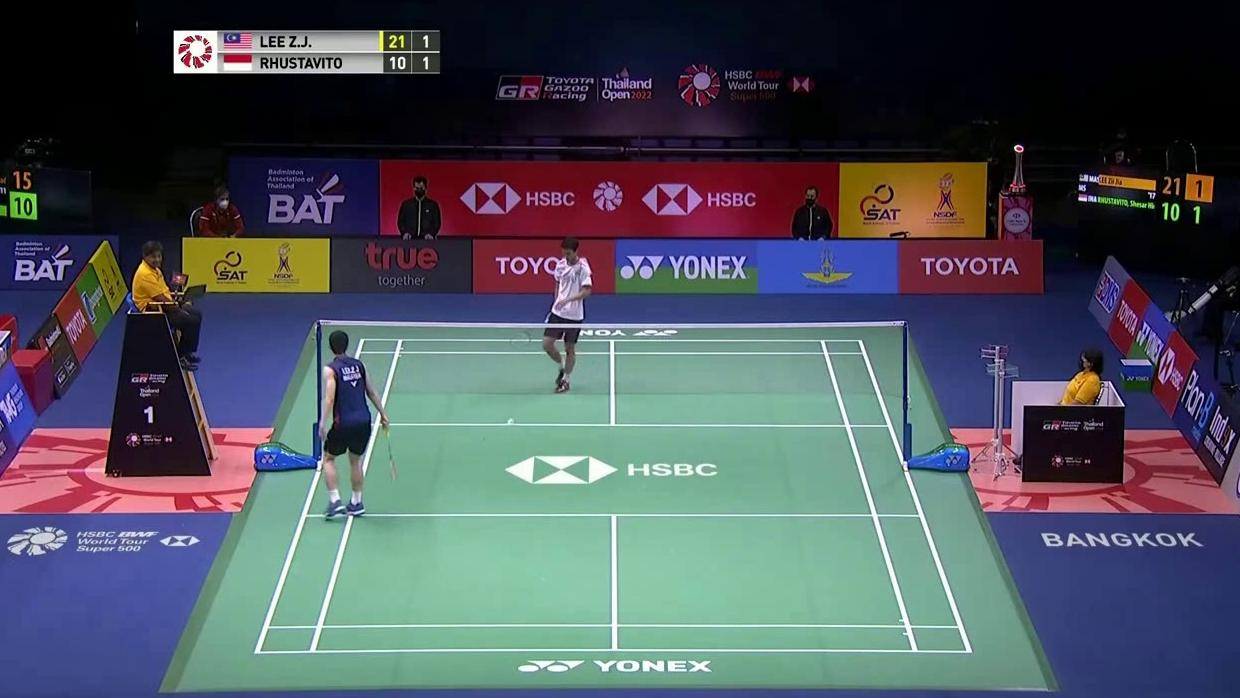racket: (509, 313, 549, 347), (381, 414, 397, 481)
shuttle: (507, 418, 515, 426)
